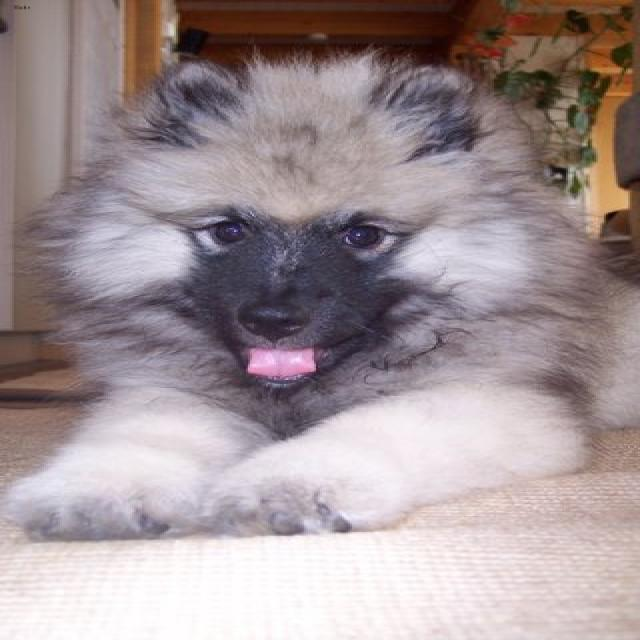dog-keeshond: (2, 45, 636, 551)
